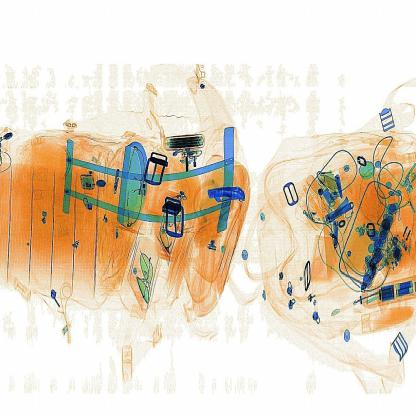knife: (200, 182, 257, 212)
